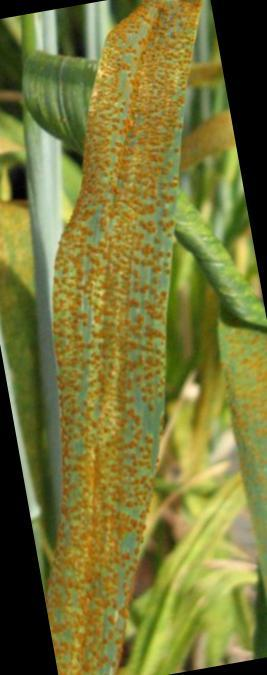Corn: (51, 303, 168, 647), (54, 28, 198, 288)
